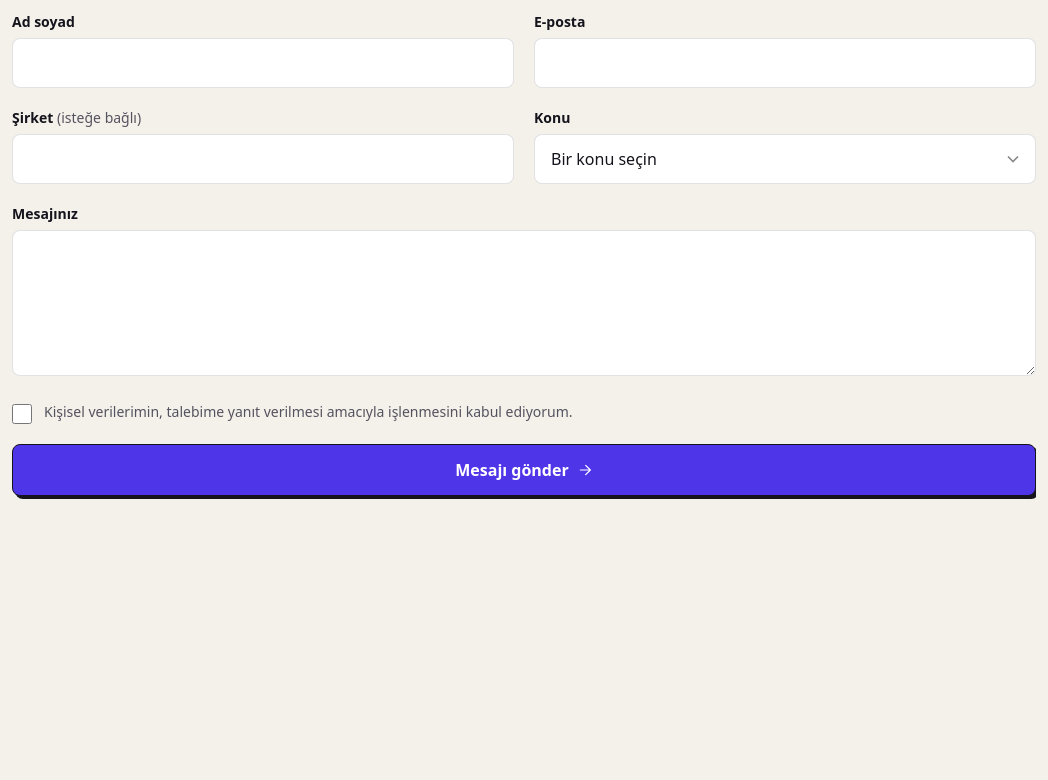
Test case: ContactForm › geçerli formu gönderir ve başarı mesajını gösterir
The image size is (1048, 780).
Type "Elif Kaya" into the field labelled "Ad soyad" at (263, 63), box [12,38,514,88]
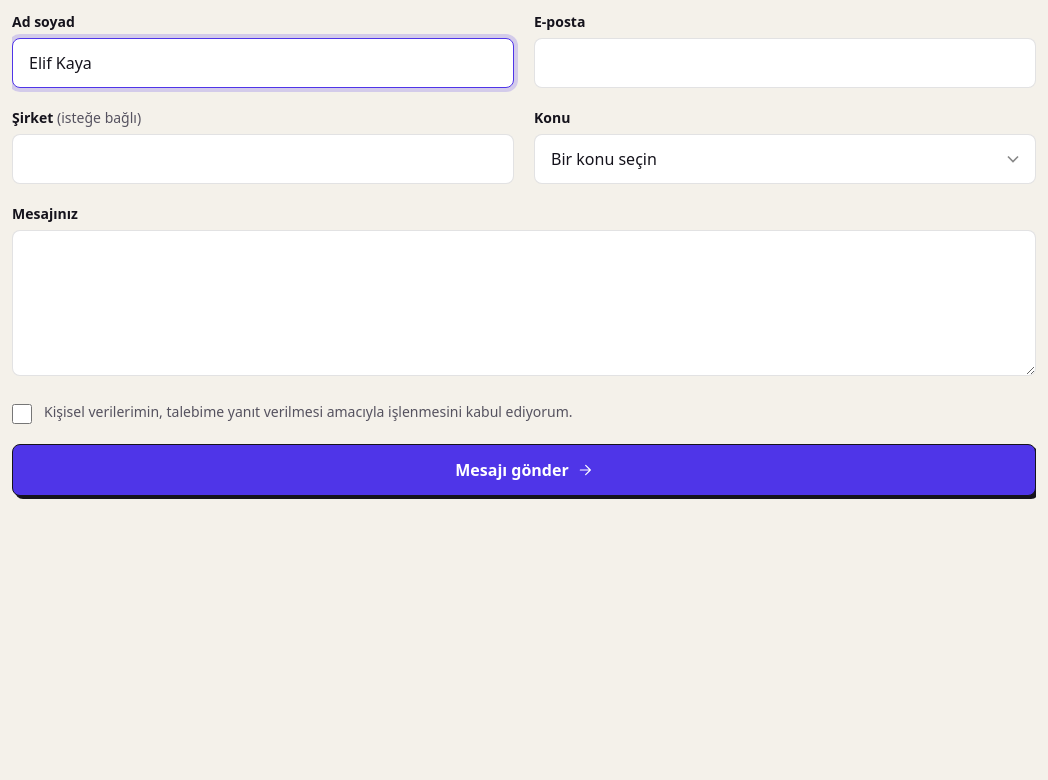
Type "elif@ornek.com" into the field labelled "E-posta" at (785, 63), box [534,38,1036,88]
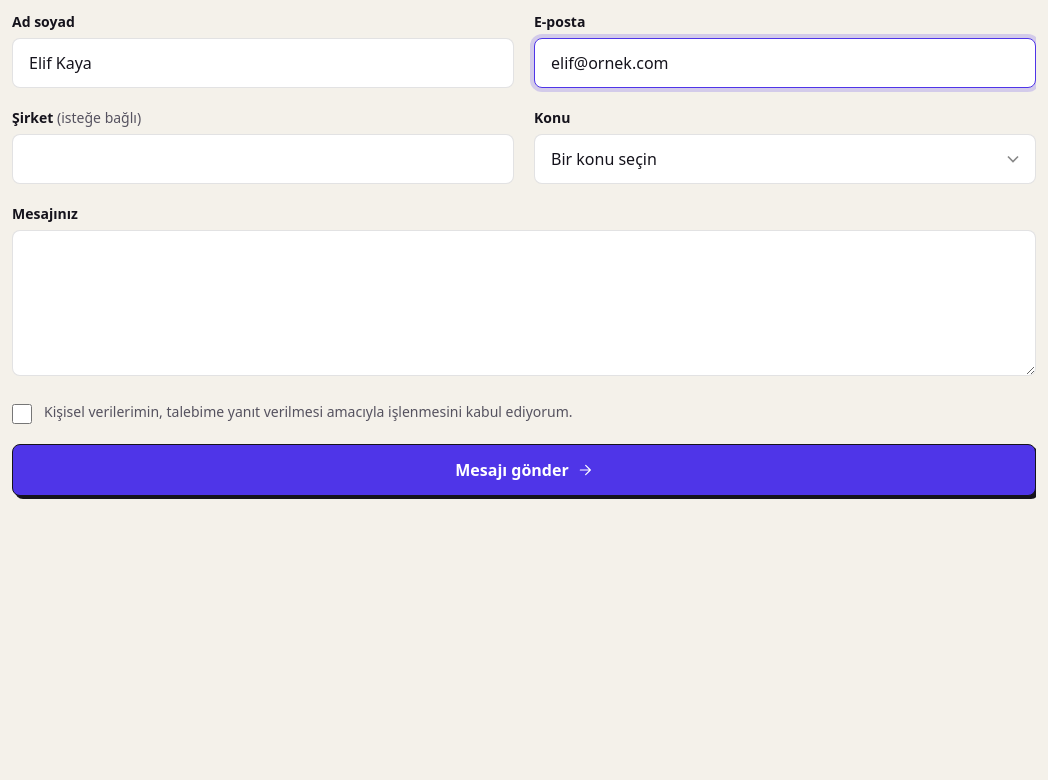
Select "Demo talebi" in the dropdown labelled "Konu" at (785, 159), box [534,134,1036,184]
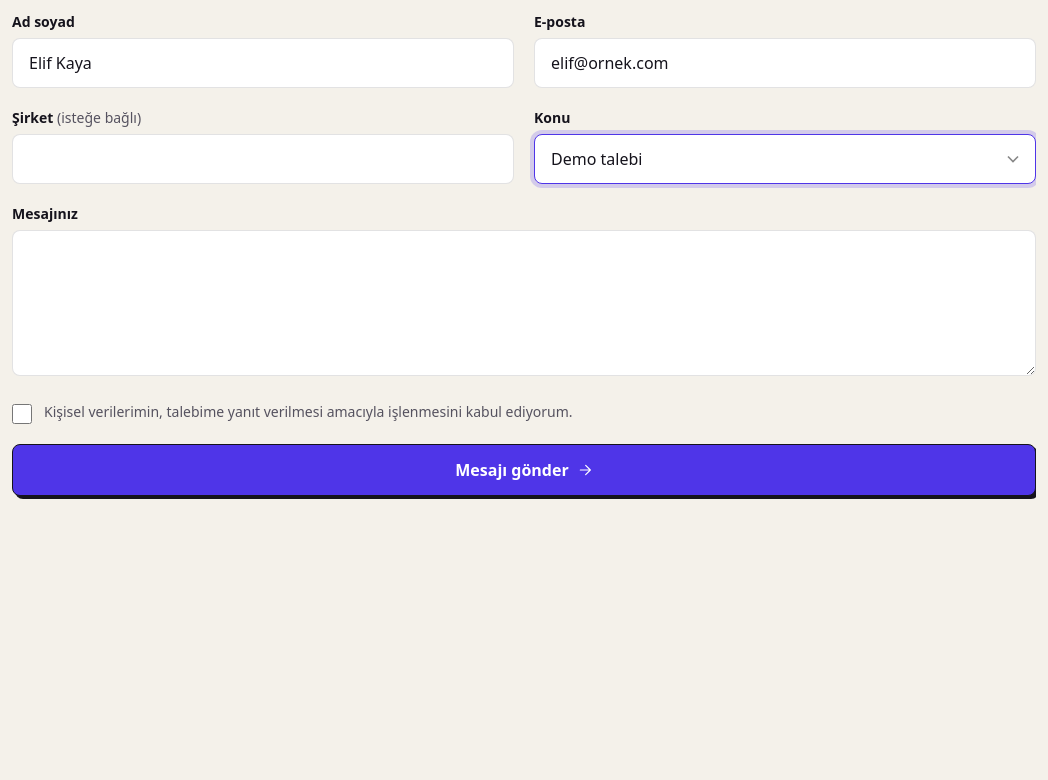
Type "Ekibimiz için bir demo görüşmesi planlamak istiyoruz." into the text box labelled "Mesajınız" at (524, 303), box [12,230,1036,376]
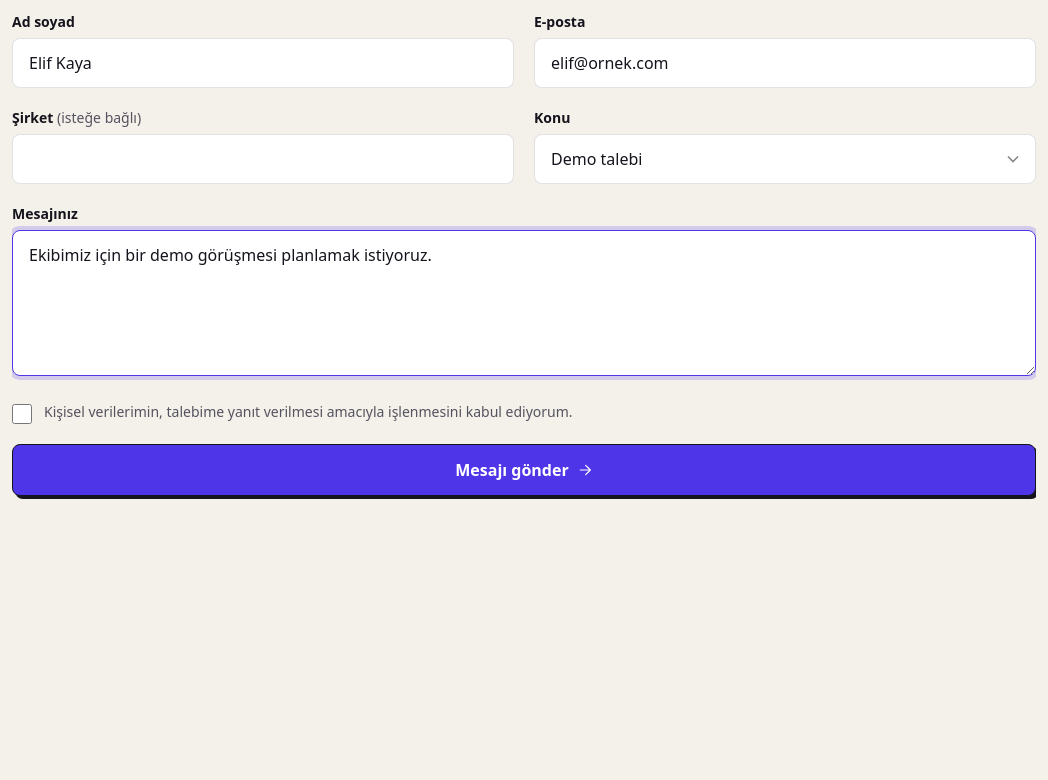
Click the checkbox labelled "Kişisel verilerimin" at (22, 414), box [12,404,32,424]
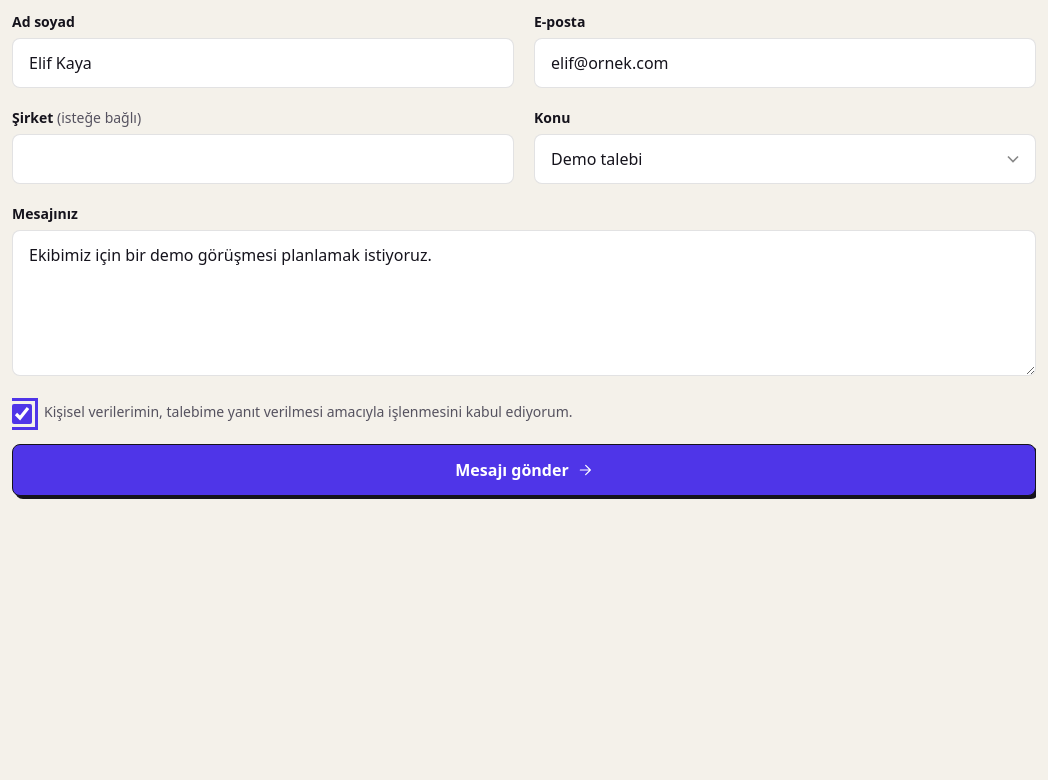
Click the button "Mesajı gönder" at (524, 470), box [12,444,1036,496]
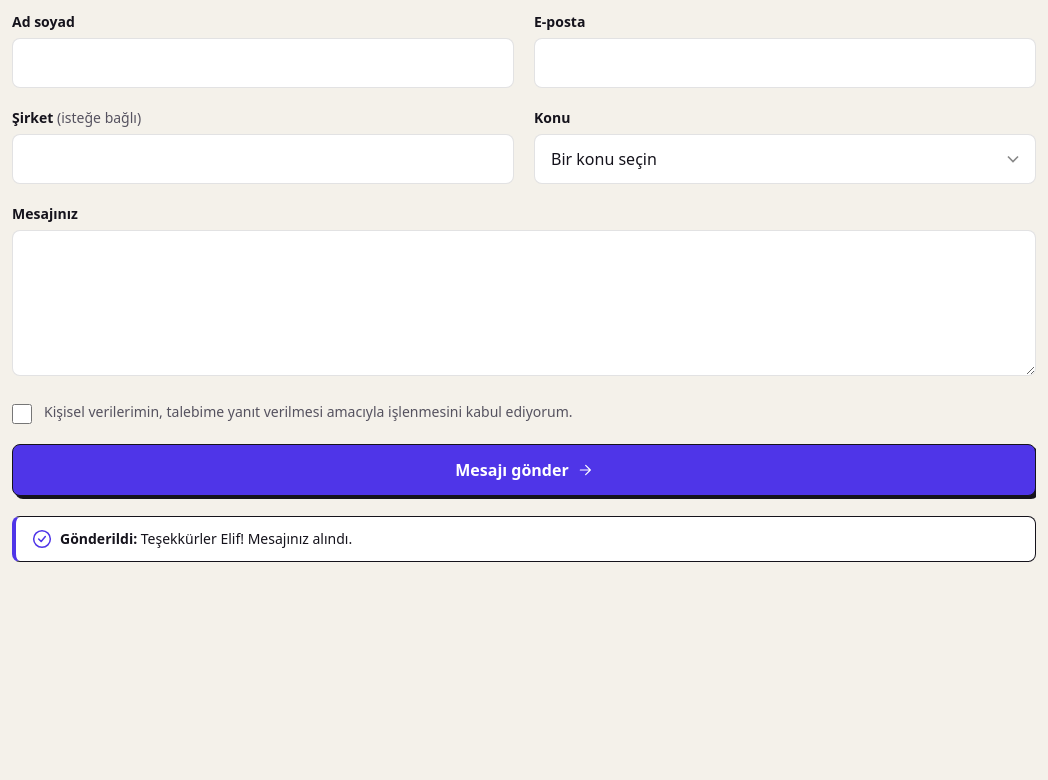
Result: the text "Teşekkürler Elif! Mesajınız alındı." is shown at [141,529,352,548]
Result: the field labelled "Ad soyad" is empty at [12,38,514,88]
